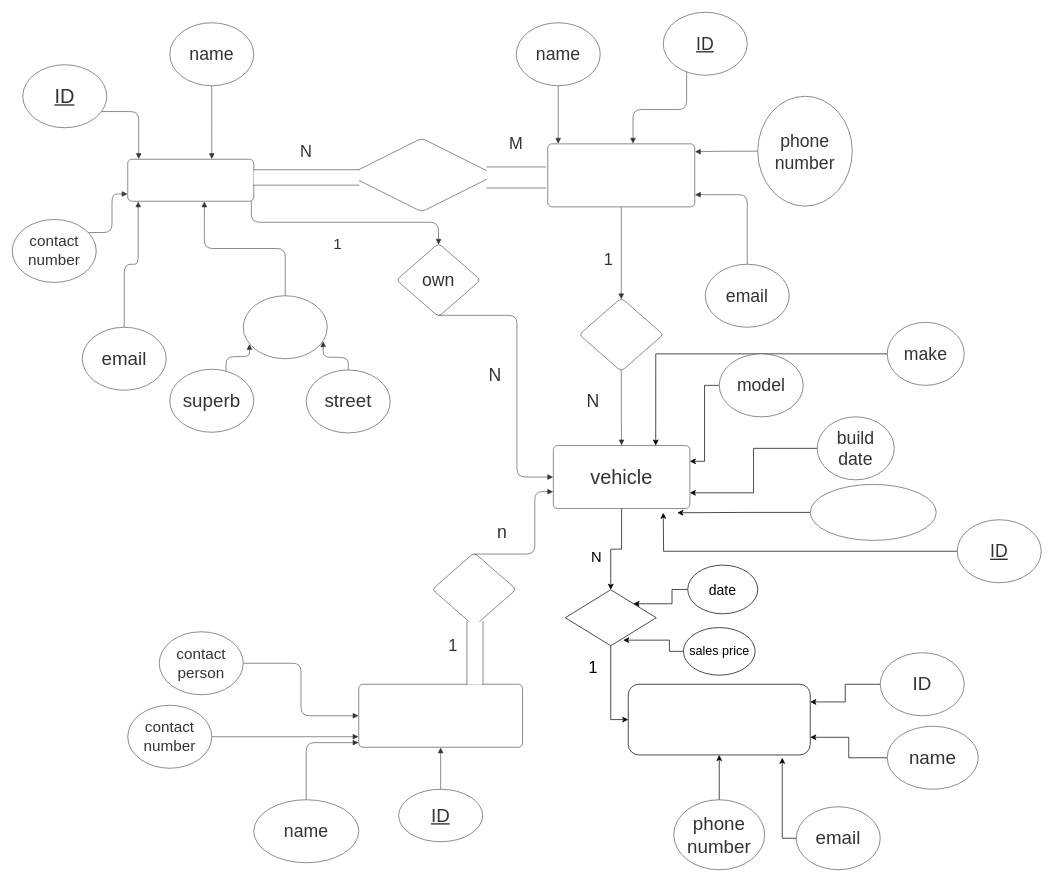
Some shapes in this 1054 by 882 pixel diagram are drawn without their labels. Here are the shapes that lost their labels. From the top down, the centre of each, then its label:
At (x=190, y=180): "dealership".
At (x=421, y=175): "have".
At (x=621, y=175): "employee".
At (x=285, y=327): "adress".
At (x=621, y=334): "sold".
At (x=873, y=512): "description".
At (x=474, y=589): "park".
At (x=610, y=617): "purchase".
At (x=440, y=715): "showroom".
At (x=719, y=719): "consumer".
